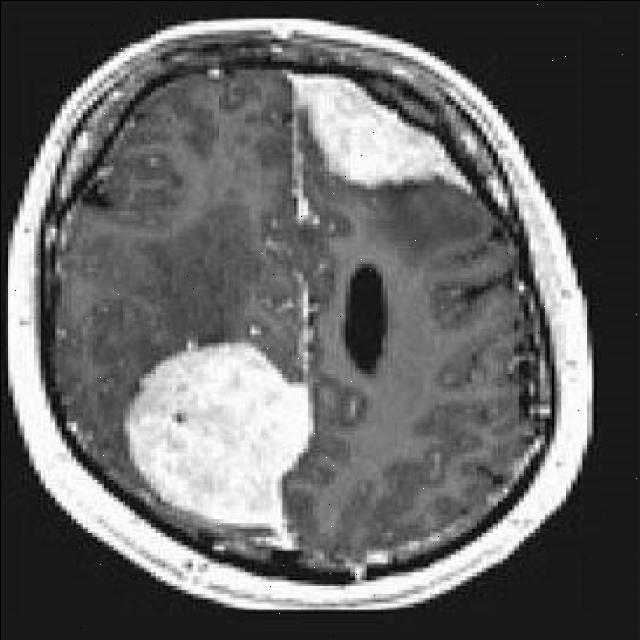Meningioma: (125, 343, 311, 529), (290, 75, 469, 191)
